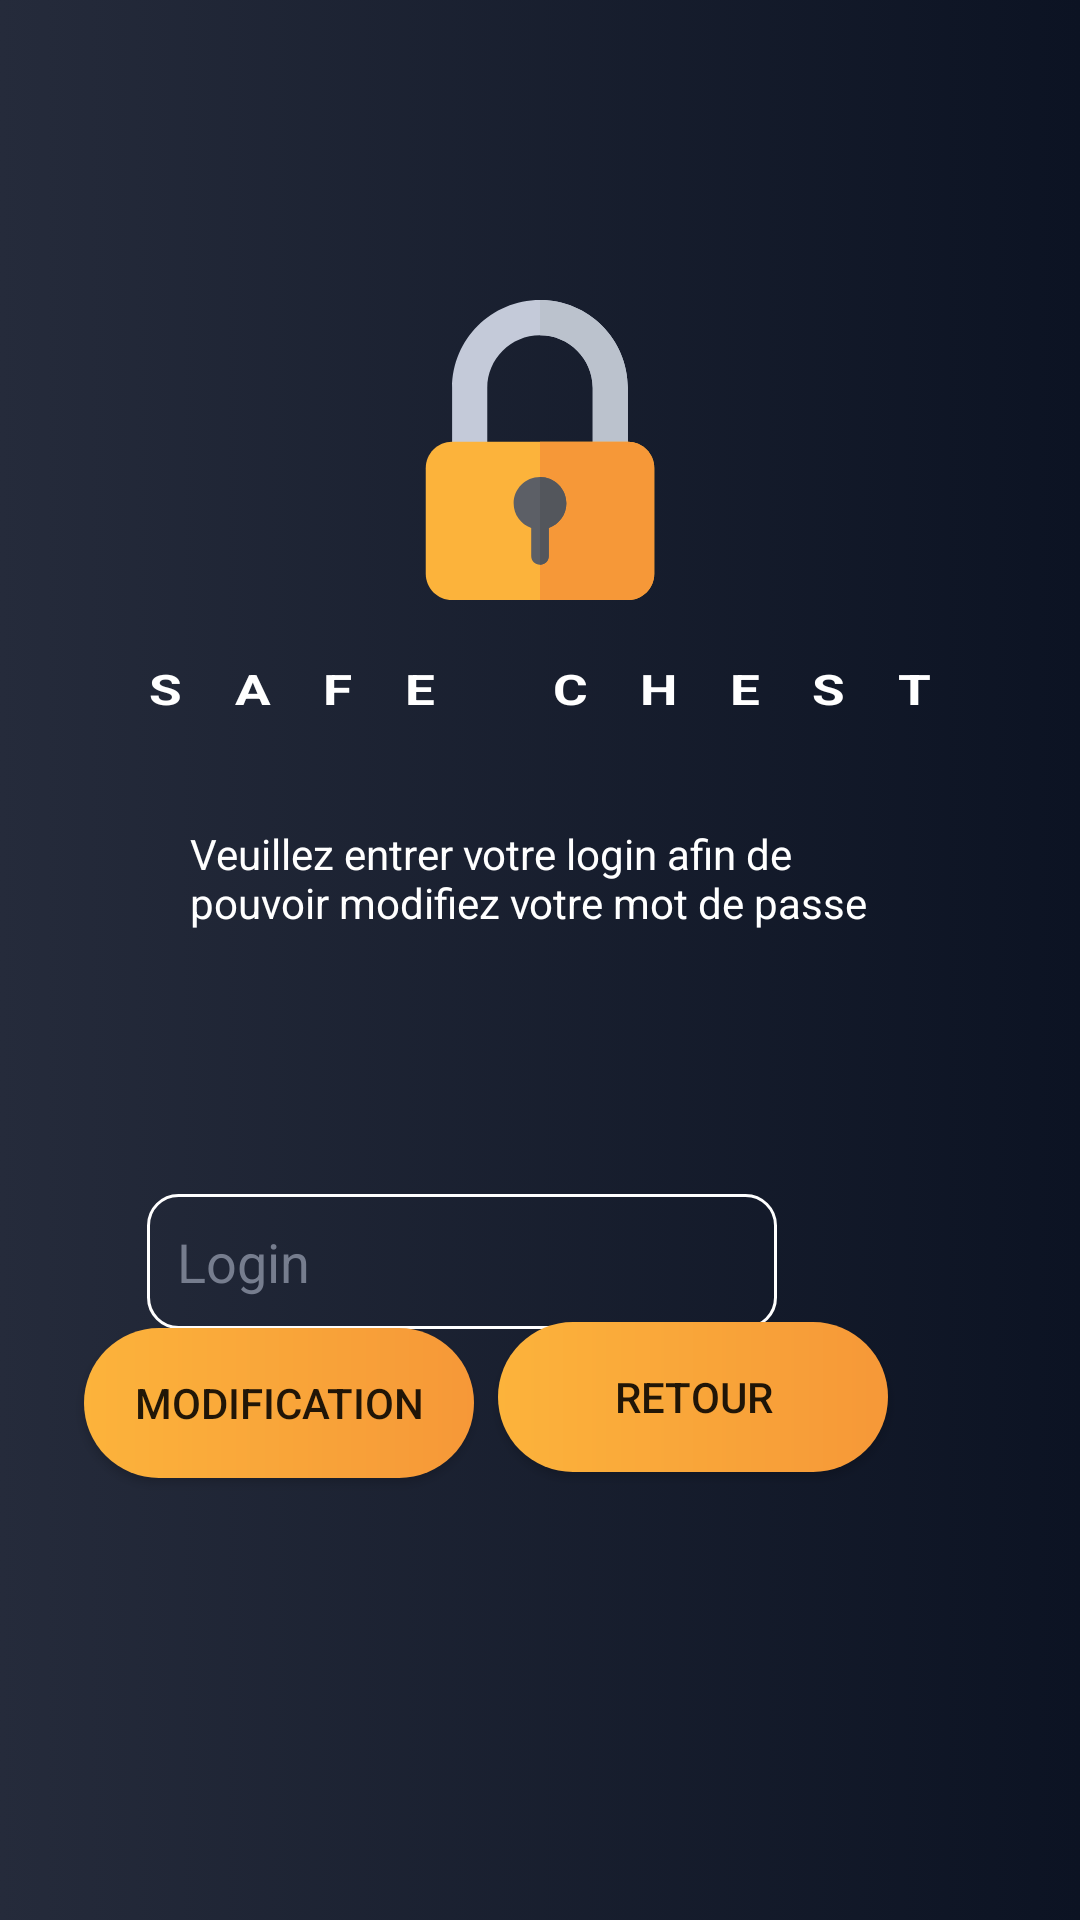

Screen size 1080x1920. Icon name, then its box in pixels as (x1,y1,x2,y2):
padlock: (425,300,655,600)
